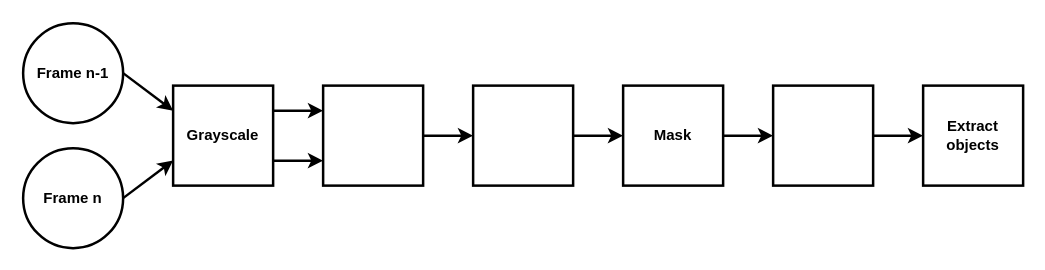
Some shapes in this 1045 by 270 pixel diagram are drawn without their labels. Each missing label, with the centre of its shape:
"Difference" goes at (372,135).
"Dilate" goes at (822,135).
"Threshold" goes at (522,135).
